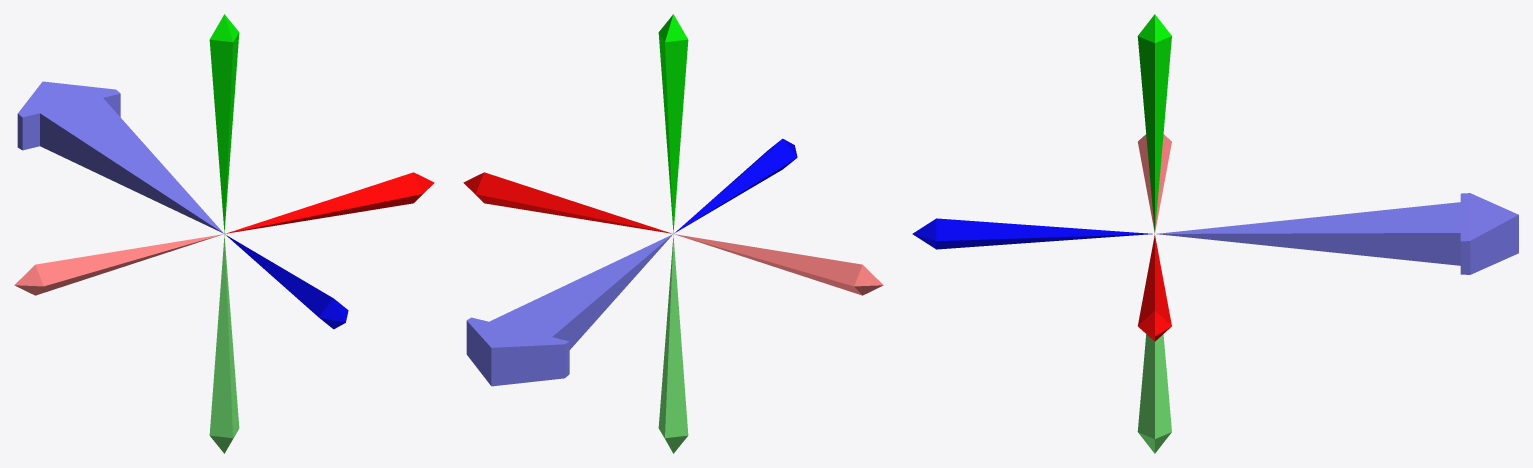
The model's file is Cursor.obj.
The picture shows the model from 3 angles, left to right: view 1: azimuth 30°, elevation 25°; view 2: azimuth 150°, elevation 25°; view 3: azimuth 270°, elevation 25°; orthographic projection.
Visible parts, largest first — view 1: Cursor; view 2: Cursor; view 3: Cursor.
Boxes of the visible parts, <box> form: Cursor: <box>14,14,434,453</box>; Cursor: <box>463,14,883,453</box>; Cursor: <box>912,14,1518,453</box>.
Bounding box in the file's own units: 4 × 4 × 5.
